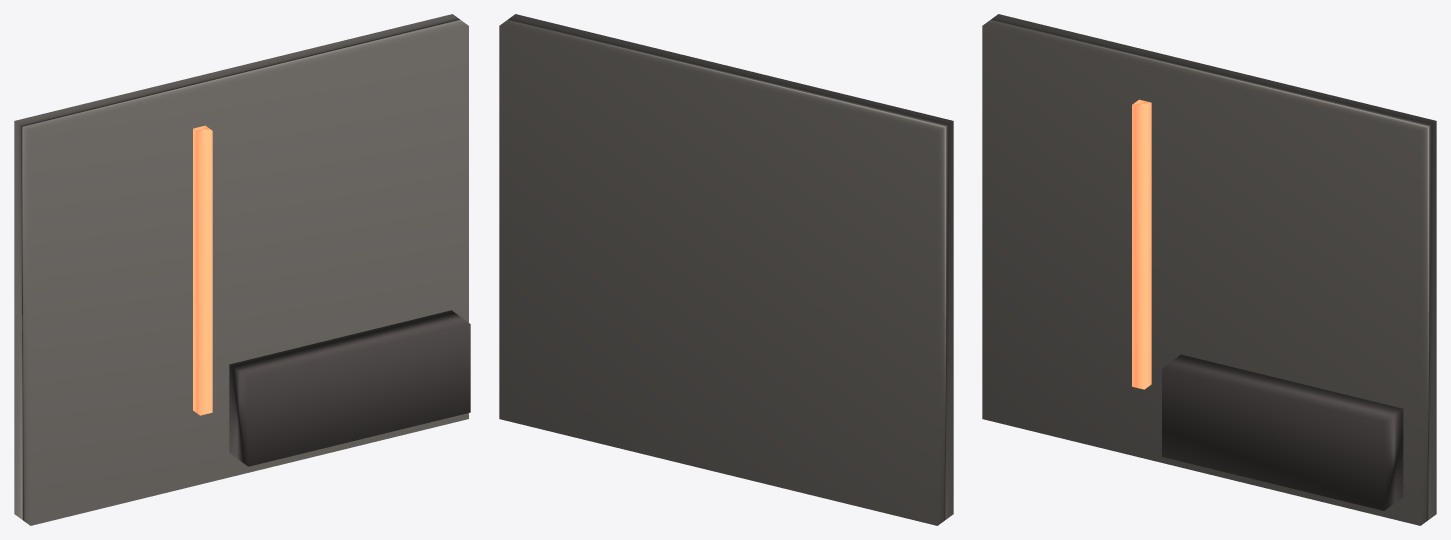
Rendered from damaged-vessel-torn-wall-plate-lod2.glb.
The picture shows the model from 3 angles, left to right: view 1: azimuth 30°, elevation 25°; view 2: azimuth 150°, elevation 25°; view 3: azimuth 330°, elevation 25°; orthographic projection.
Parts seen in each view (by area): view 1: damaged-vessel-torn-wall-plate-shell, damaged-vessel-torn-wall-plate-lower-flap, damaged-vessel-torn-wall-plate-cut-edge; view 2: damaged-vessel-torn-wall-plate-shell; view 3: damaged-vessel-torn-wall-plate-shell, damaged-vessel-torn-wall-plate-lower-flap, damaged-vessel-torn-wall-plate-cut-edge.
Boxes of the visible parts, x1,y1,x2,y2 form: damaged-vessel-torn-wall-plate-shell: (14, 14, 468, 525); damaged-vessel-torn-wall-plate-lower-flap: (229, 310, 470, 466); damaged-vessel-torn-wall-plate-cut-edge: (193, 125, 212, 415); damaged-vessel-torn-wall-plate-shell: (499, 14, 953, 525); damaged-vessel-torn-wall-plate-shell: (982, 14, 1436, 525); damaged-vessel-torn-wall-plate-lower-flap: (1162, 354, 1403, 510); damaged-vessel-torn-wall-plate-cut-edge: (1132, 99, 1151, 389).
Size of the model in its own units: 2.8 by 2.4 by 0.39.
